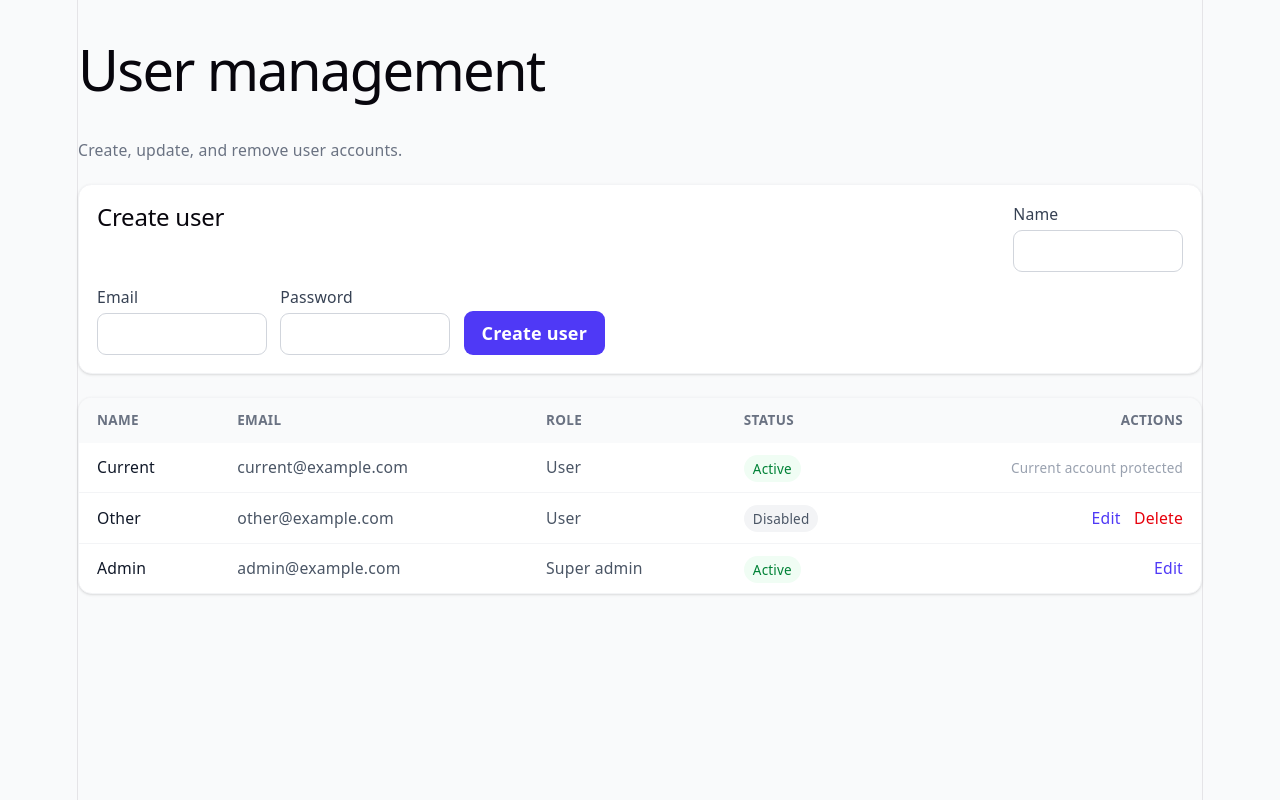
Scenario: UserManagement › updates, cancels, and deletes users while protecting current and admin accounts
Expected: the text "Other" is shown, [79, 493, 219, 543]
Expected: the text "Current account protected" is shown, [1011, 459, 1183, 477]
Click the button "Edit" in the row of "other@example.com".
click(1106, 518)  # box [1092, 507, 1120, 529]
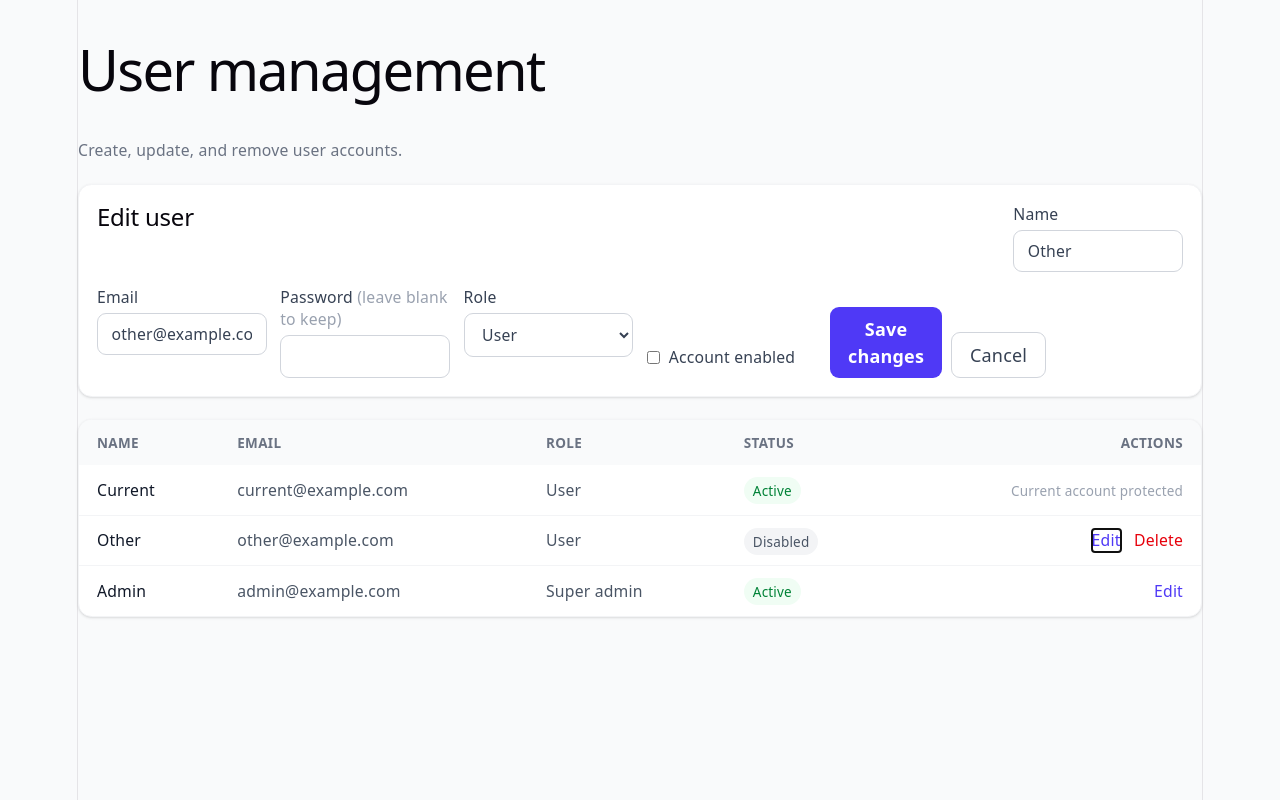
Expected: the heading "Edit user" is shown, [97, 200, 194, 233]
Expected: the dropdown labelled "Role" shows "User", [464, 313, 633, 357]
Click the button "Cancel".
click(999, 355)  # box [951, 332, 1046, 378]
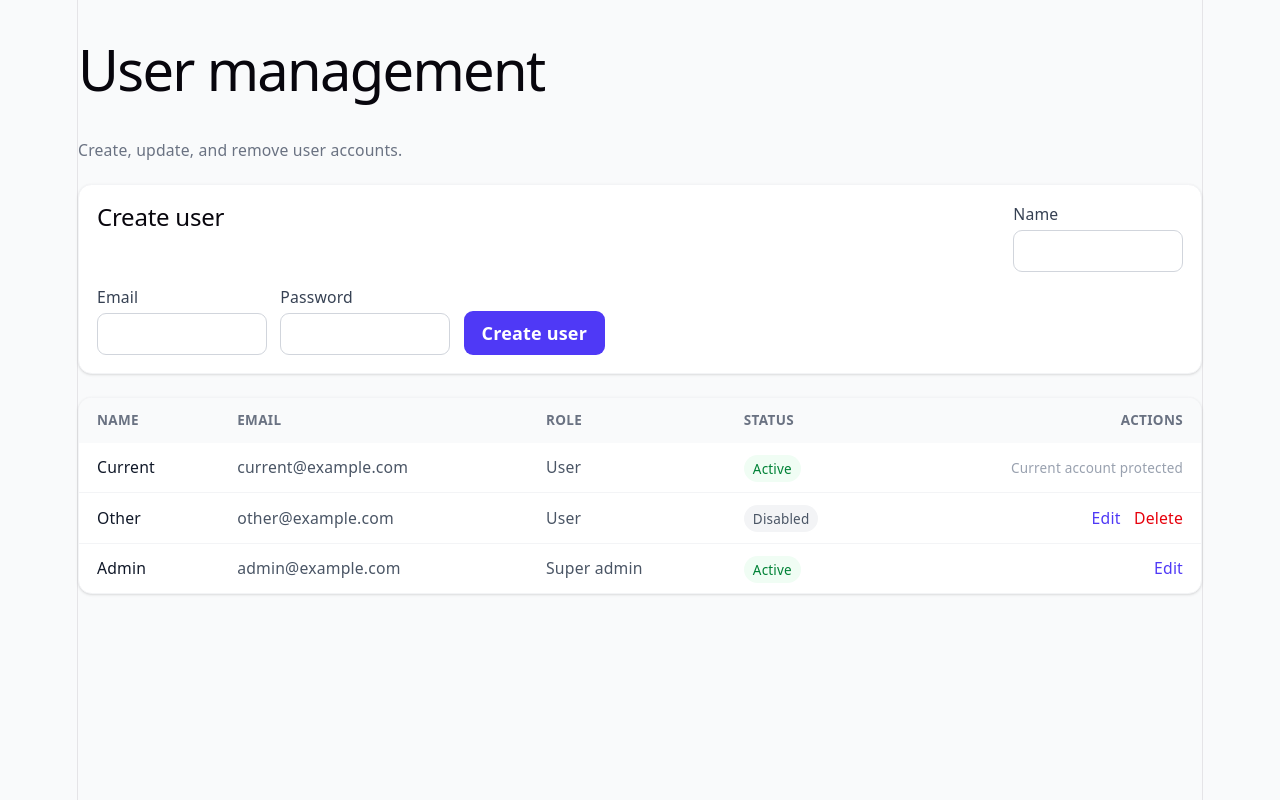
Expected: the heading "Create user" is shown, [97, 200, 224, 233]
Click the button "Edit" in the row of "other@example.com".
click(1106, 518)  # box [1092, 507, 1120, 529]
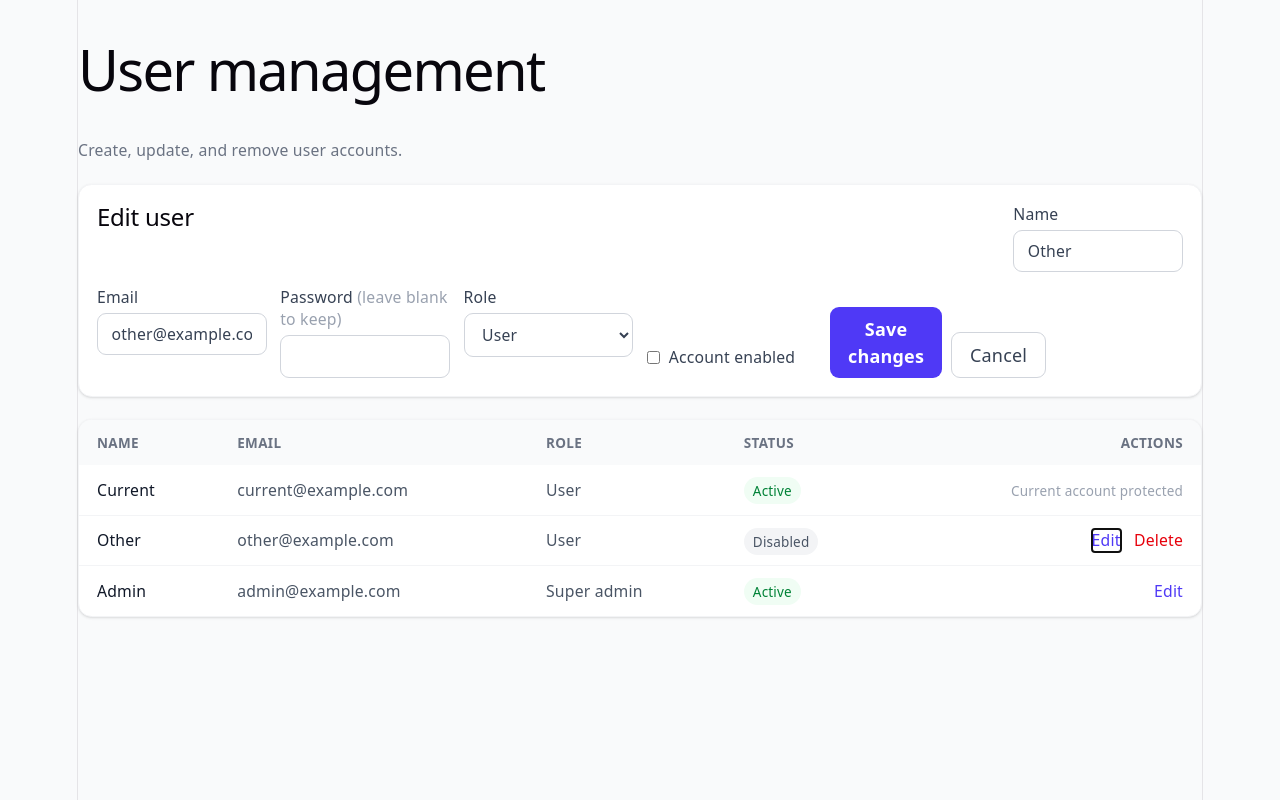
Click the button "Save changes".
click(886, 343)  # box [830, 308, 942, 378]
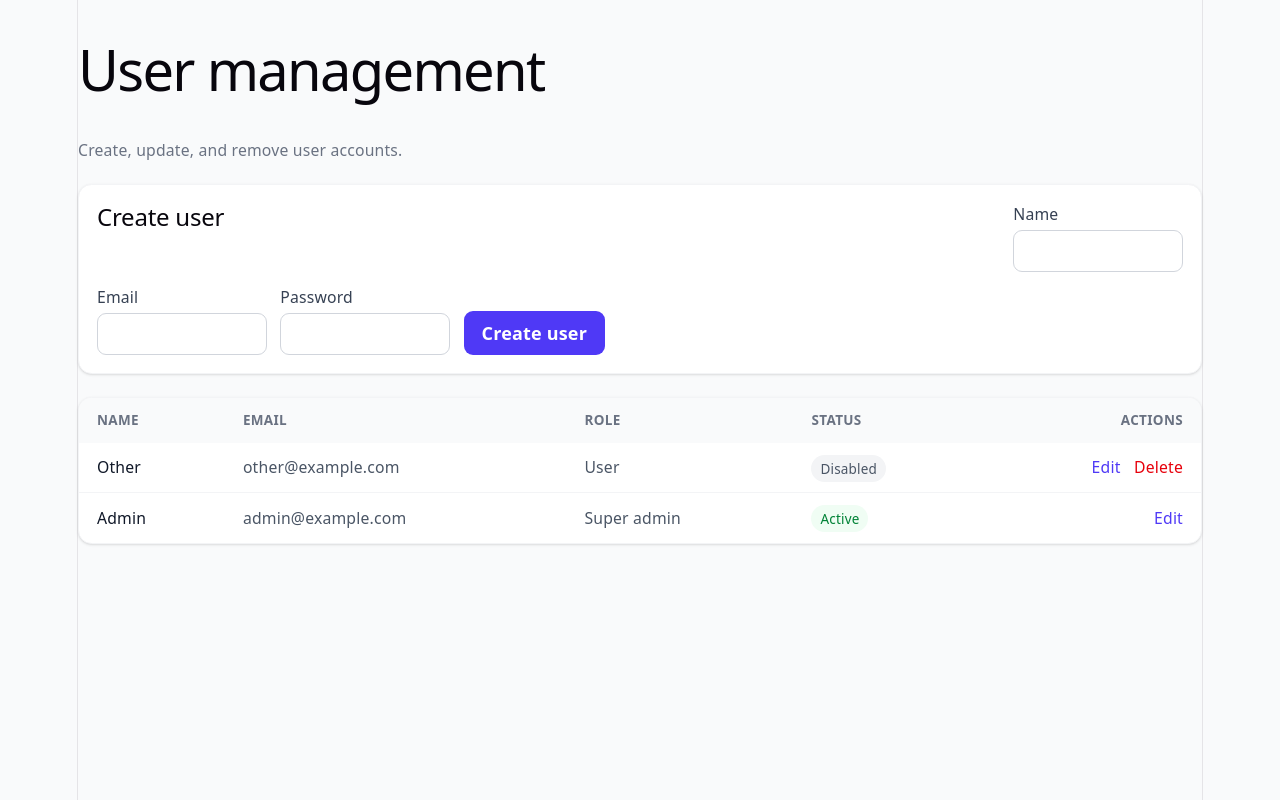
Expected: the text "Other" is shown, [79, 443, 225, 493]
Click the button "Delete".
click(1158, 467)  # box [1134, 456, 1183, 479]
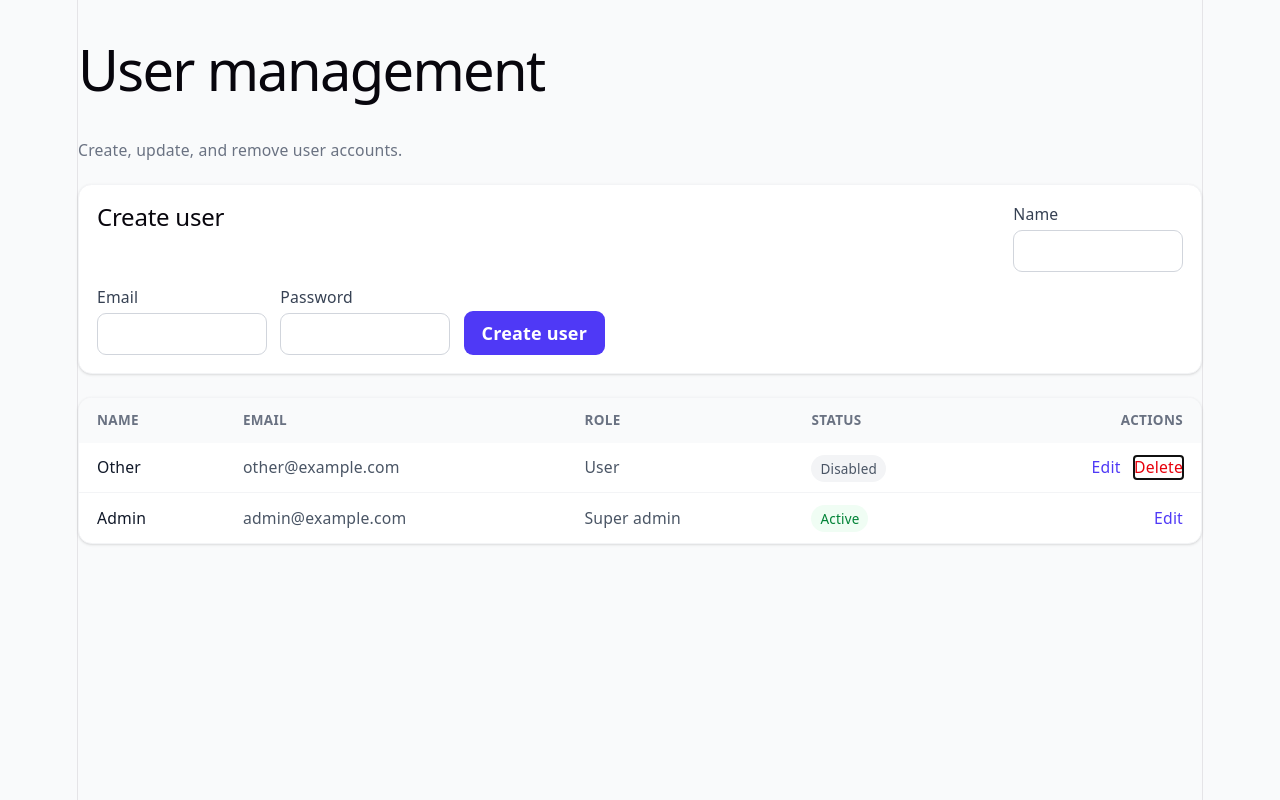
Click the button "Delete".
click(1158, 467)  # box [1134, 456, 1183, 479]
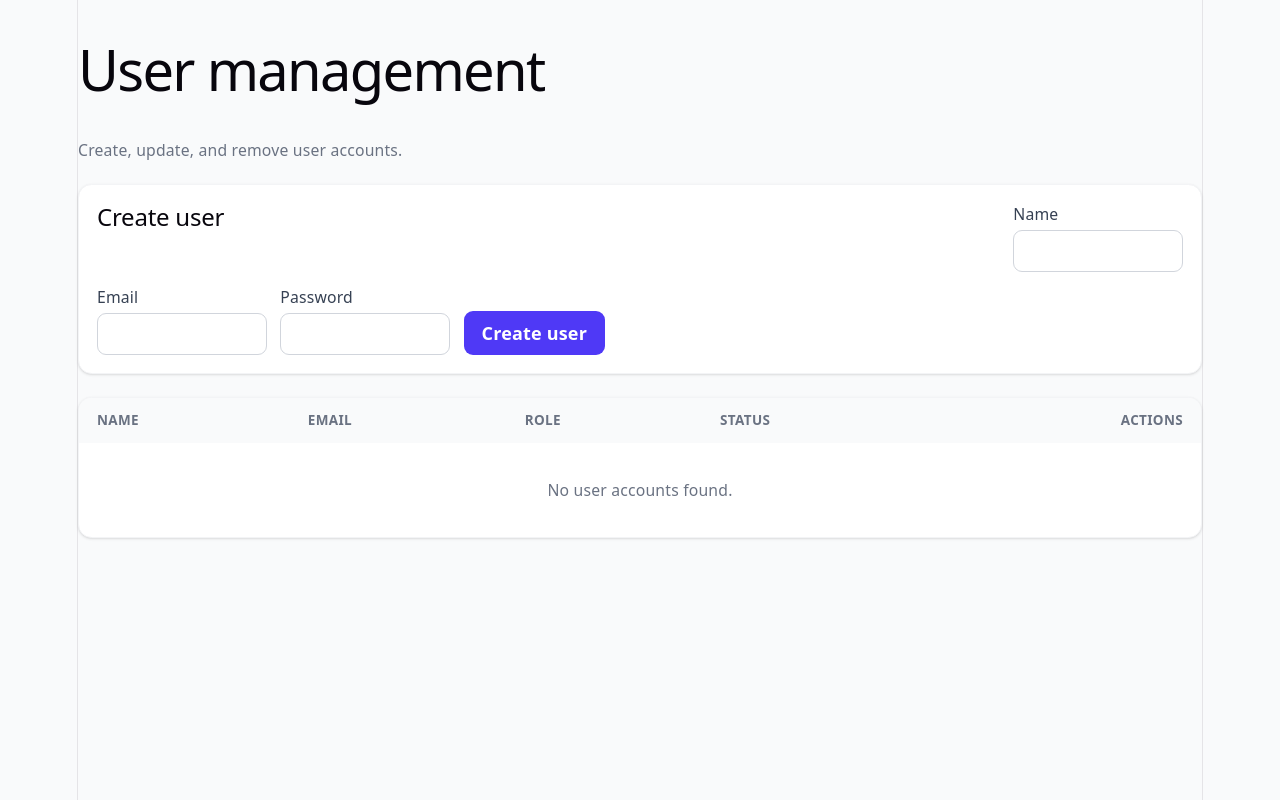
Expected: the text "No user accounts found." is shown, [79, 443, 1201, 537]
